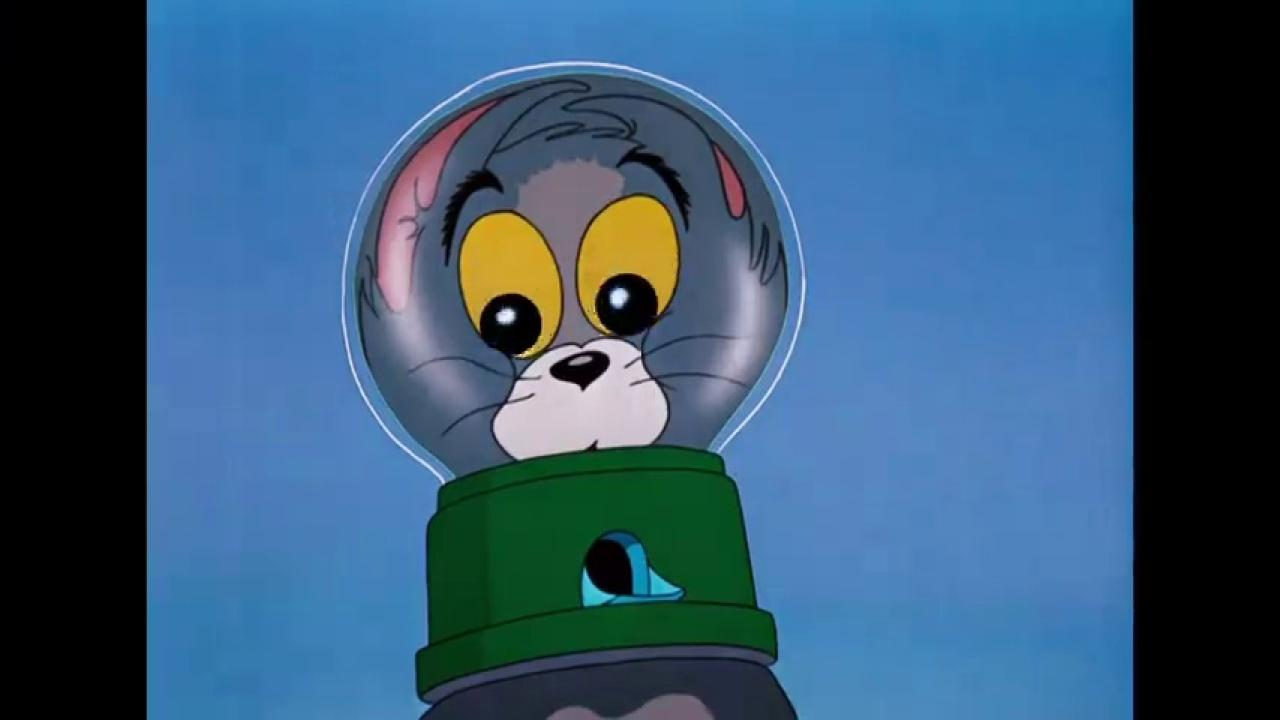Tom: (340, 60, 806, 720)
